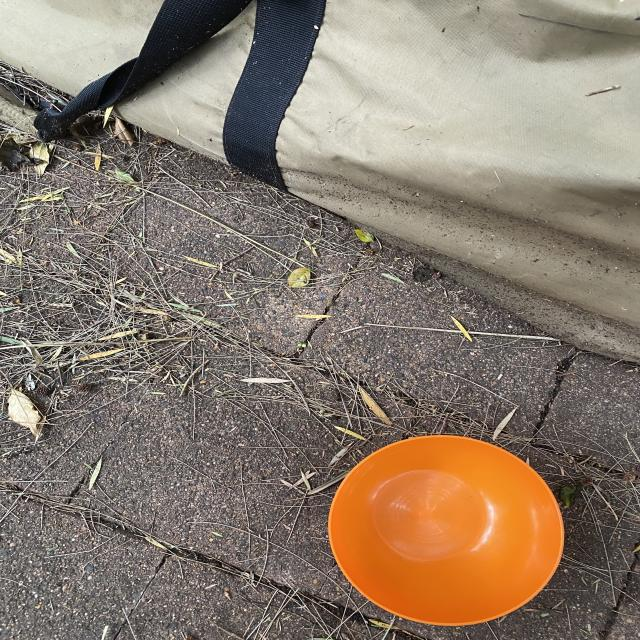bowl: (327, 434, 566, 627)
